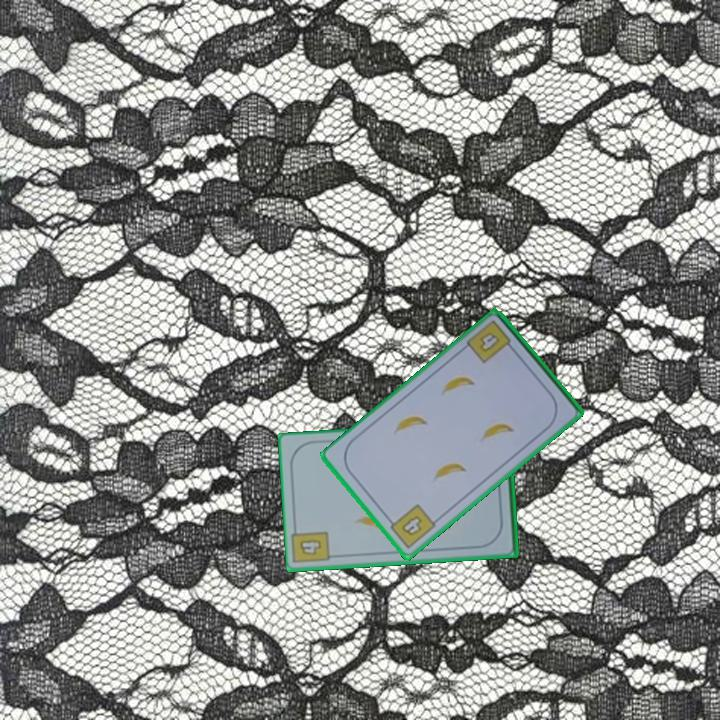4b: (383, 500, 439, 552), (463, 317, 518, 367), (296, 536, 324, 558)
